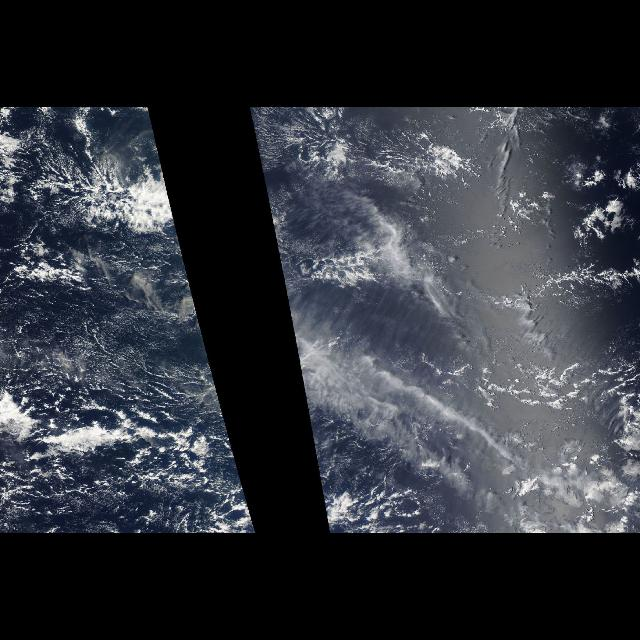Fish: (4, 116, 180, 240)
Gravel: (7, 234, 219, 412)
